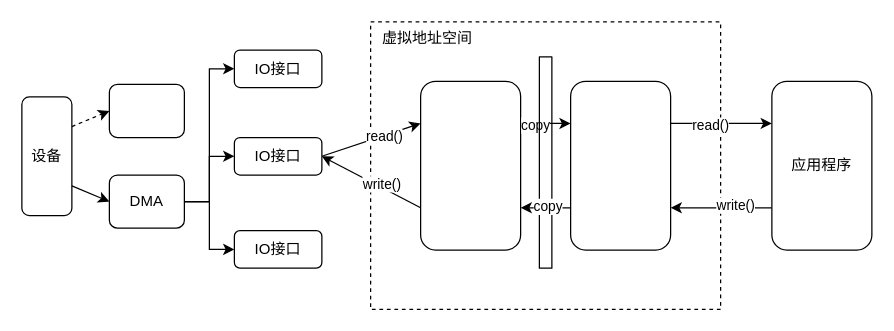
The diagram is 894 pixels wide and 331 high, and some of its shapes have lost their labels. Each missing label, with the centre of its shape:
"CPU" belongs at point (146, 110).
"内核地址空间" belongs at point (470, 165).
"用户地址空间" belongs at point (620, 165).
